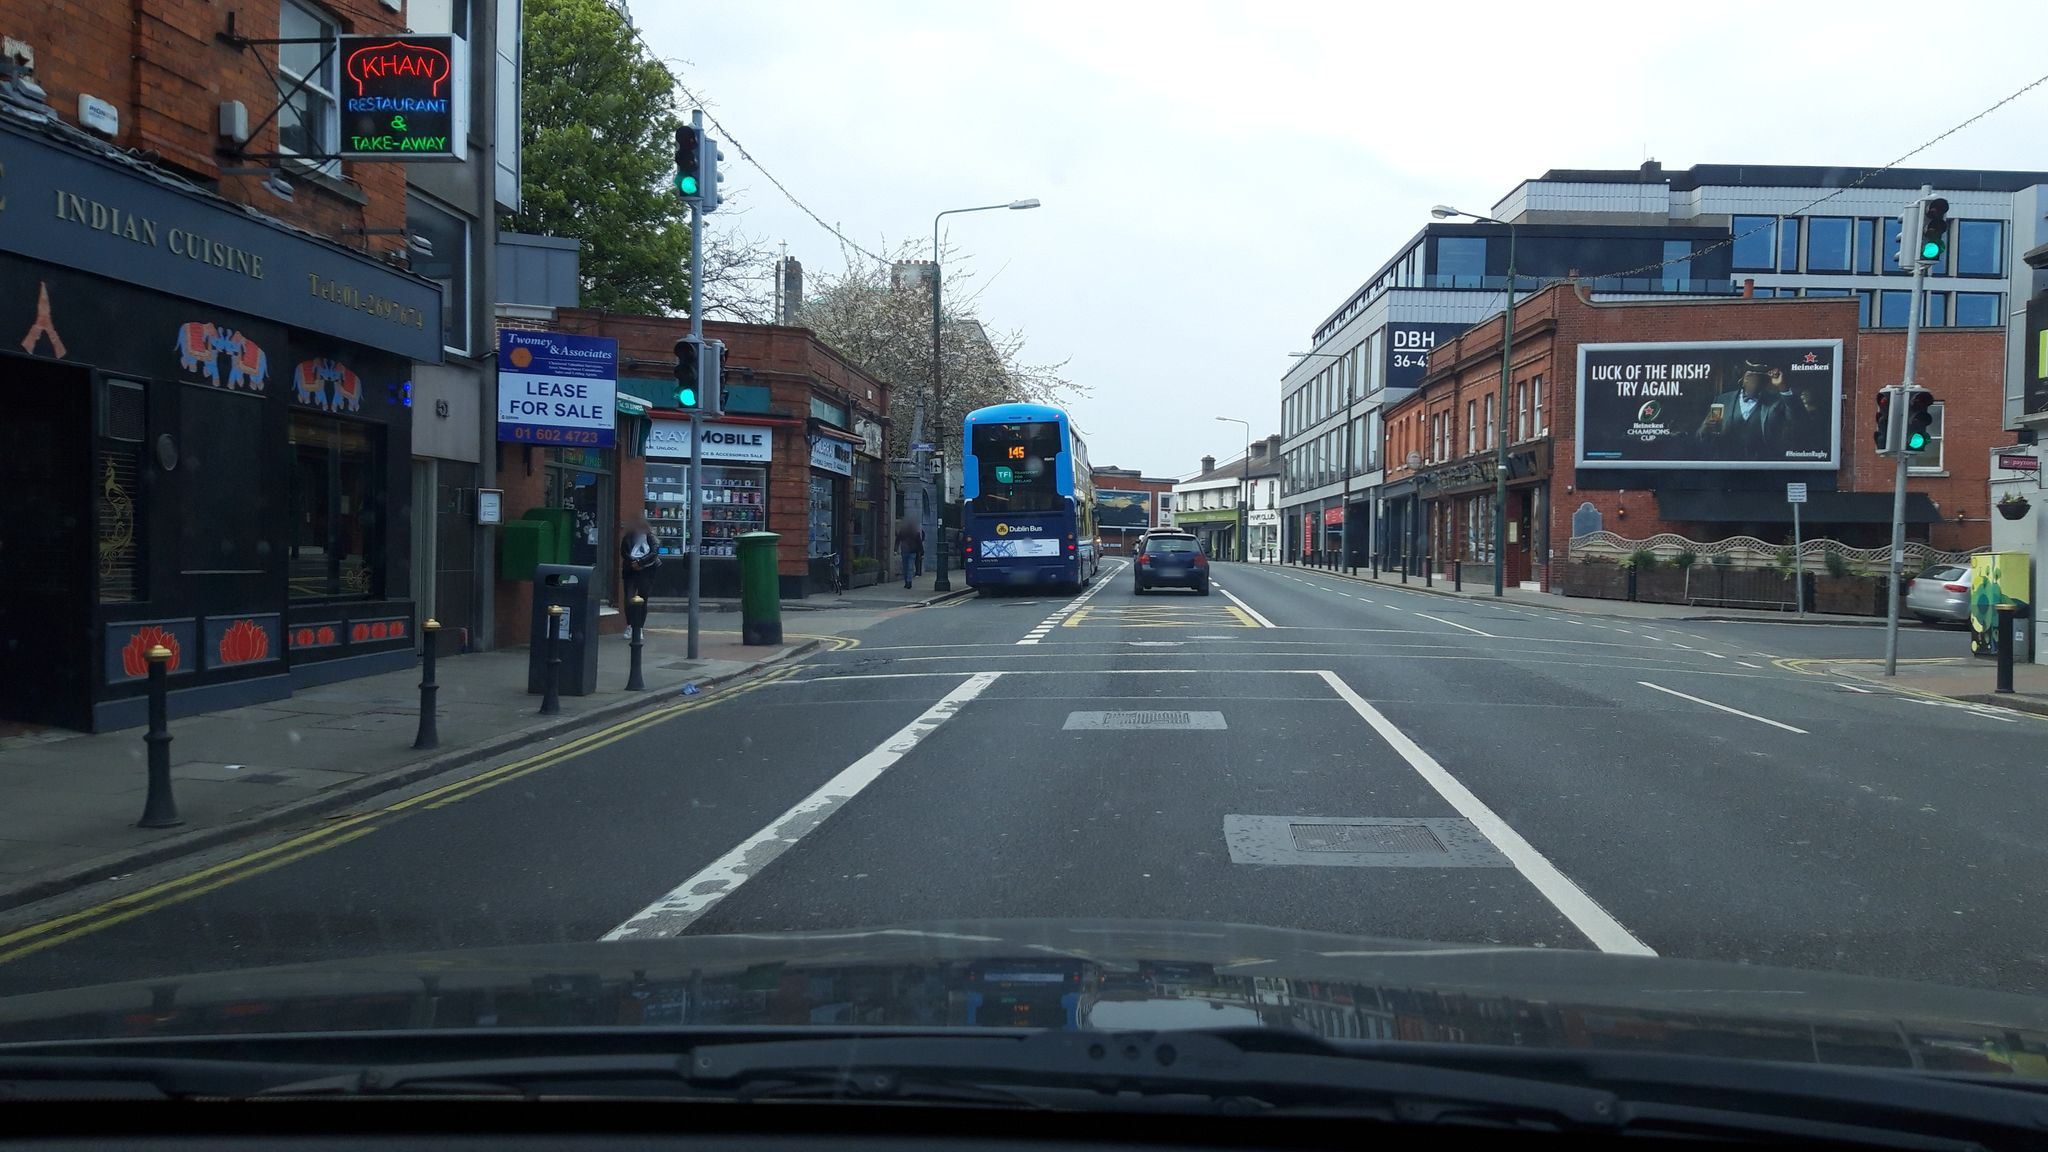property sign: (492, 321, 639, 456)
